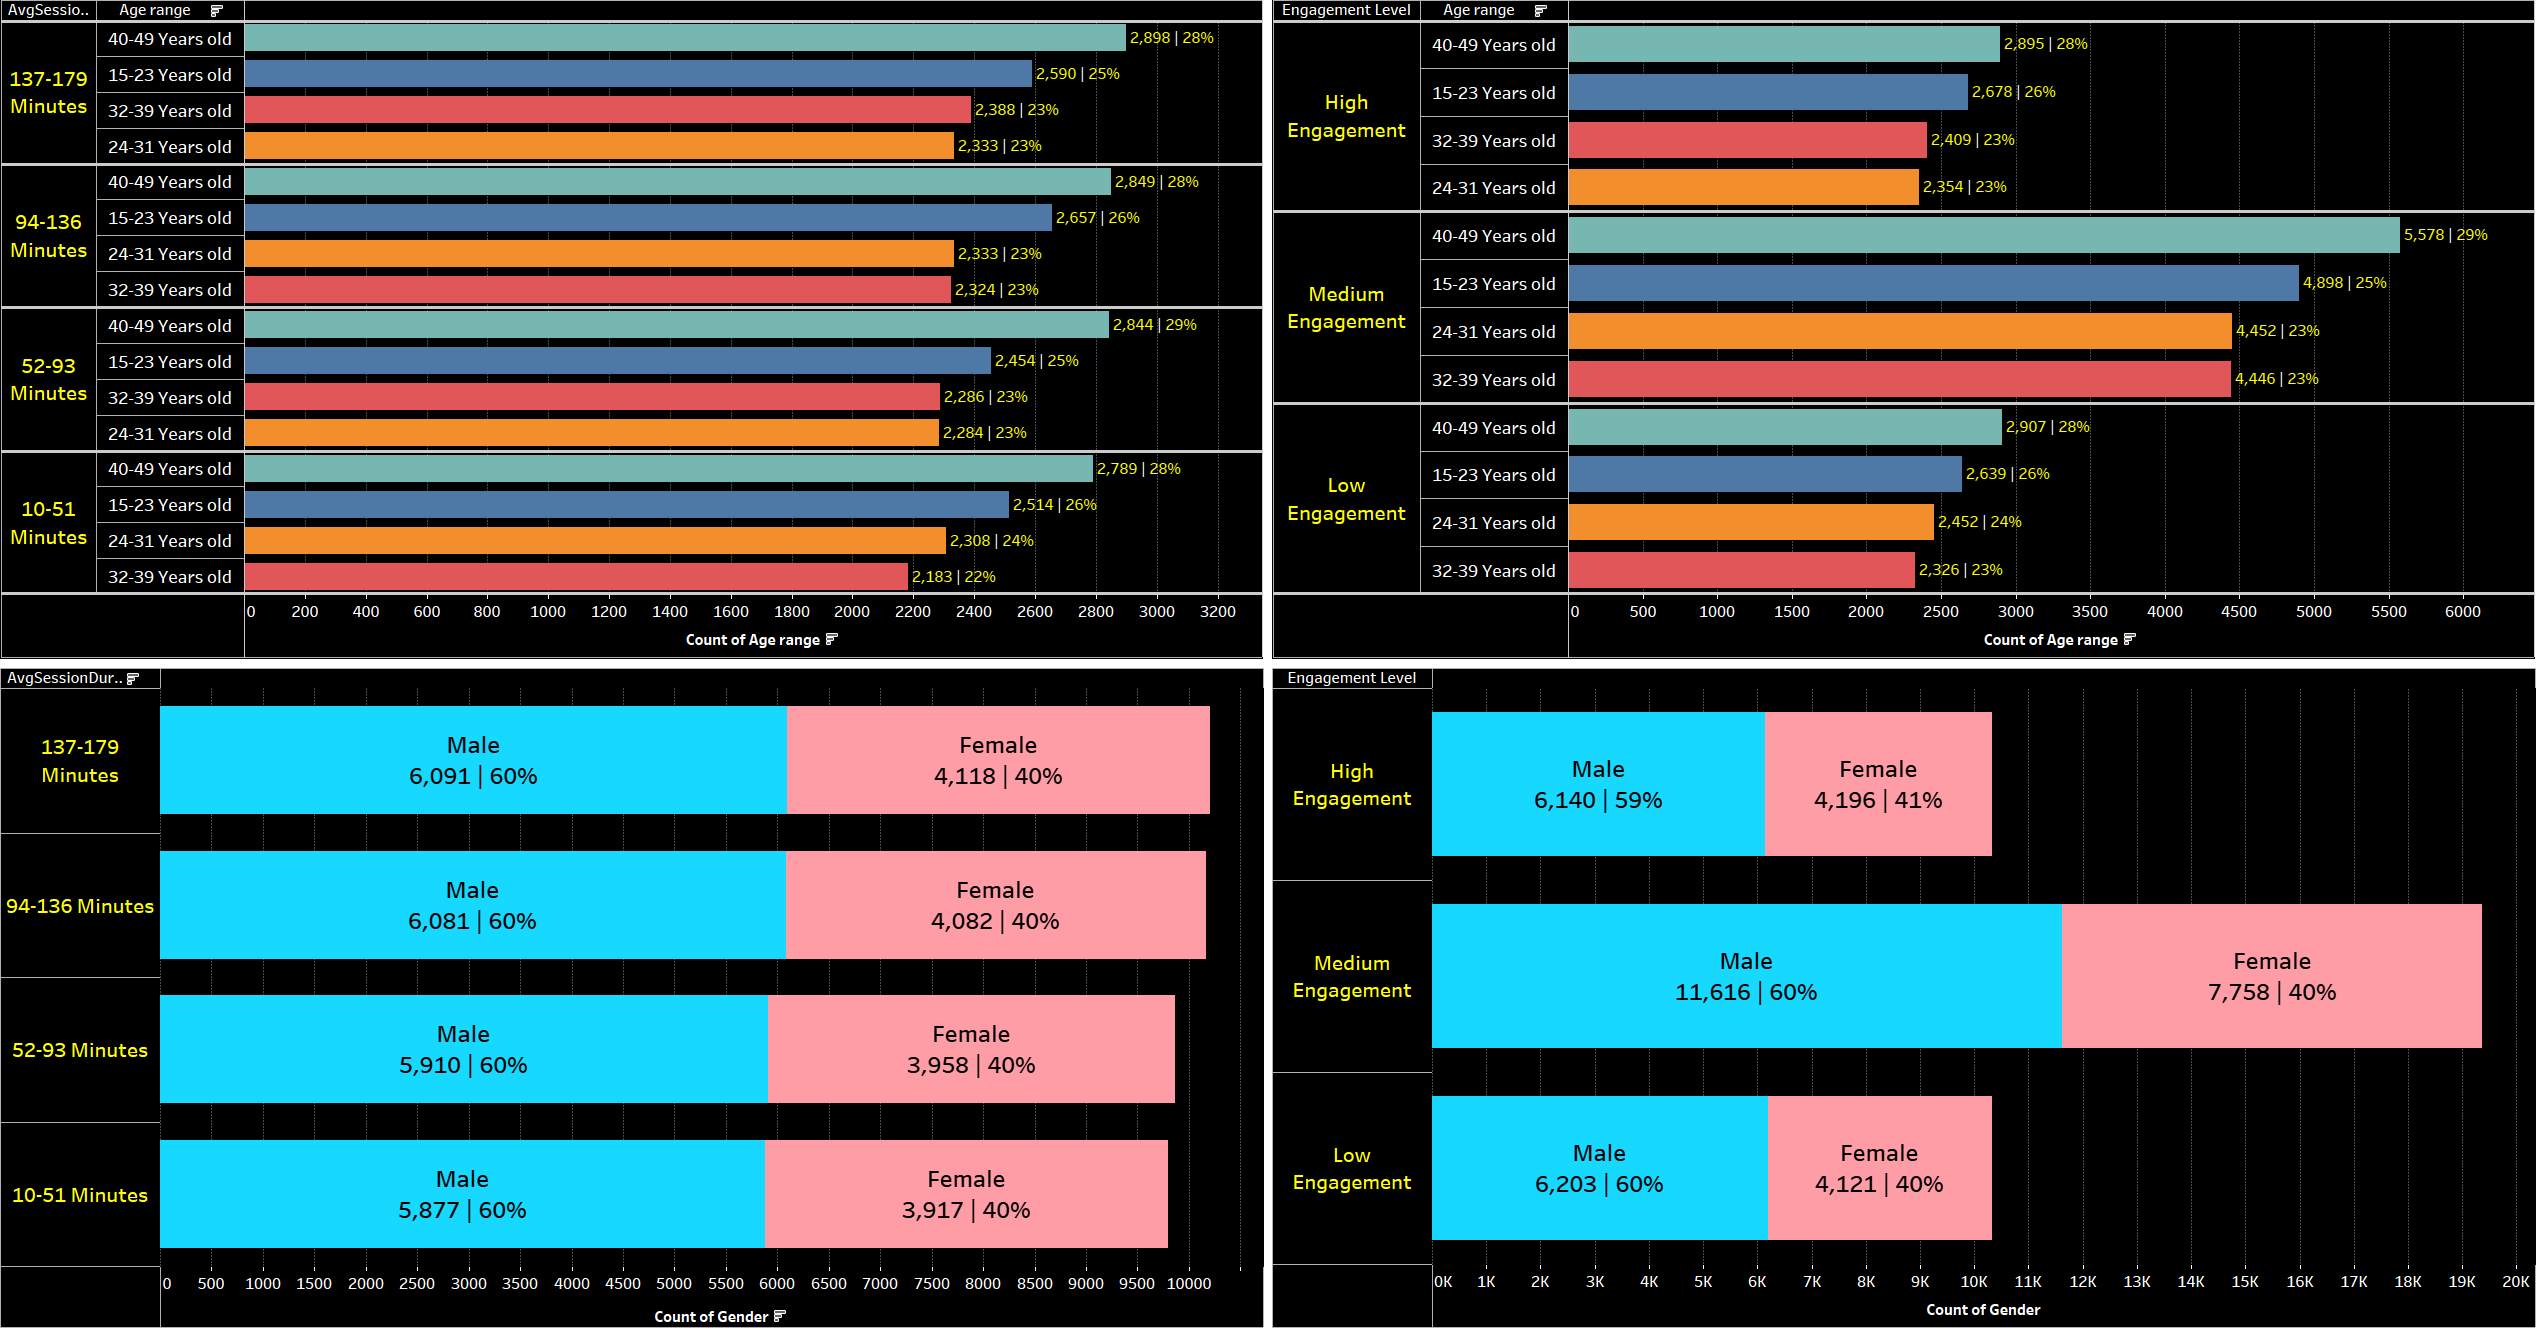

This screenshot's page, from the dashboard's own definition file:
{"tool":"tableau","page":{"name":"Age&Gender_AvgSession&Engagement","canvas":[1000,1000],"units":"permille","ordinal":0},"visuals":[{"type":"worksheet","title":"AgeAvgSession","mark":"Automatic","rows":["AvgSessionDurationMinutes_range","Age_range"],"cols":["Age_range"],"box":[3.5,6.5,496.5,493.4]},{"type":"worksheet","title":"AgeEngagement","mark":"Automatic","rows":["EngagementLevel","Age_range"],"cols":["Age_range"],"box":[500,6.5,496.5,493.4]},{"type":"worksheet","title":"GenderAvgSession","mark":"Automatic","rows":["AvgSessionDurationMinutes_range"],"cols":["Gender"],"box":[3.5,500,496.5,493.4]},{"type":"worksheet","title":"GenderEngagement","mark":"Automatic","rows":["EngagementLevel"],"cols":["Gender"],"box":[500,500,496.5,493.4]}]}

Visuals, with their boxes on the dashboard's canvas, which has no fixed pixel size, in thousandths of its width and height (x1, y1, x2, y2). These are canvas units, not pixel positions in the 2536x1329 screenshot, which may show the page scaled, cropped or inside an application window:
"AgeAvgSession" worksheet: x1=4, y1=6, x2=500, y2=500
"AgeEngagement" worksheet: x1=500, y1=6, x2=996, y2=500
"GenderAvgSession" worksheet: x1=4, y1=500, x2=500, y2=993
"GenderEngagement" worksheet: x1=500, y1=500, x2=996, y2=993
